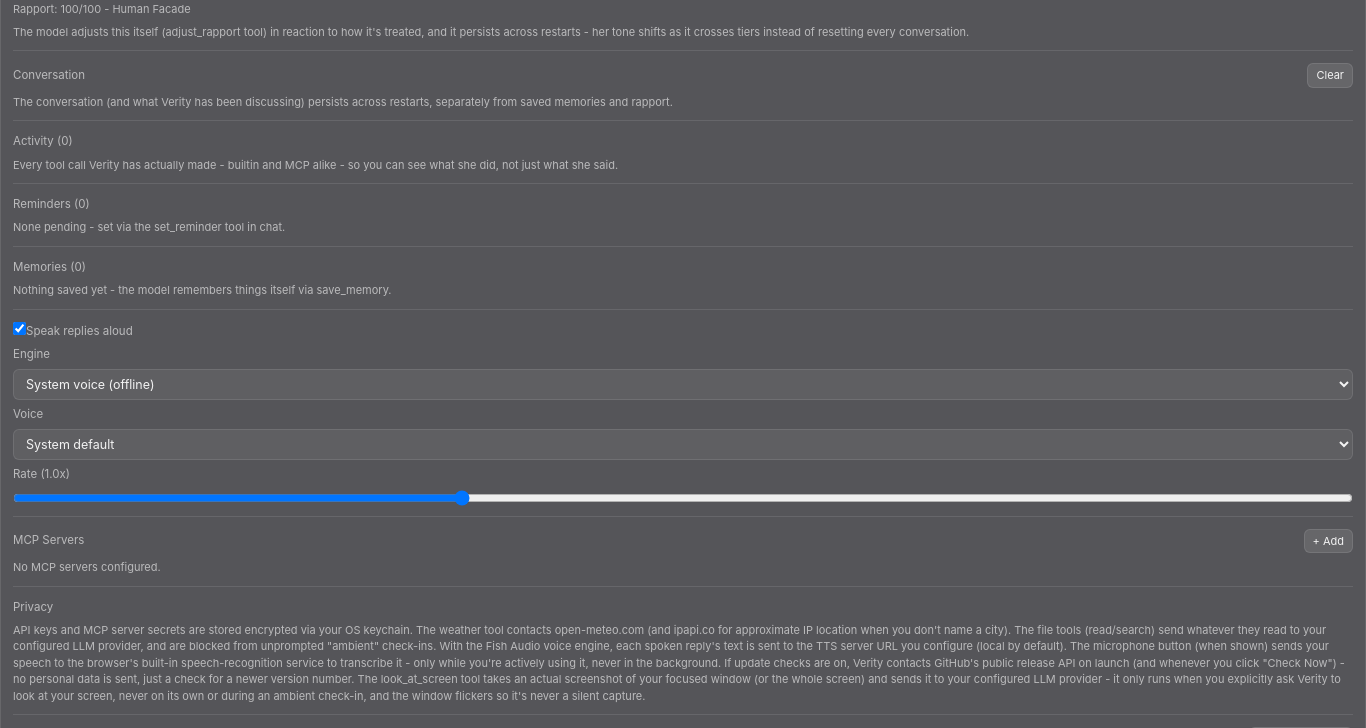
Test: SettingsPanel › text-to-speech › swaps the system voice select for the Fish Audio fields when the engine changes
(page scrolled)
Check: the text "Voice" is shown, box [13,407,43,421]
Check: the field with placeholder "http://localhost:8080" is not shown
Select "Fish Audio (natural)" in the 1st dropdown showing "System voice (offline)": {"x": 683, "y": 384} [13,369,1353,400]
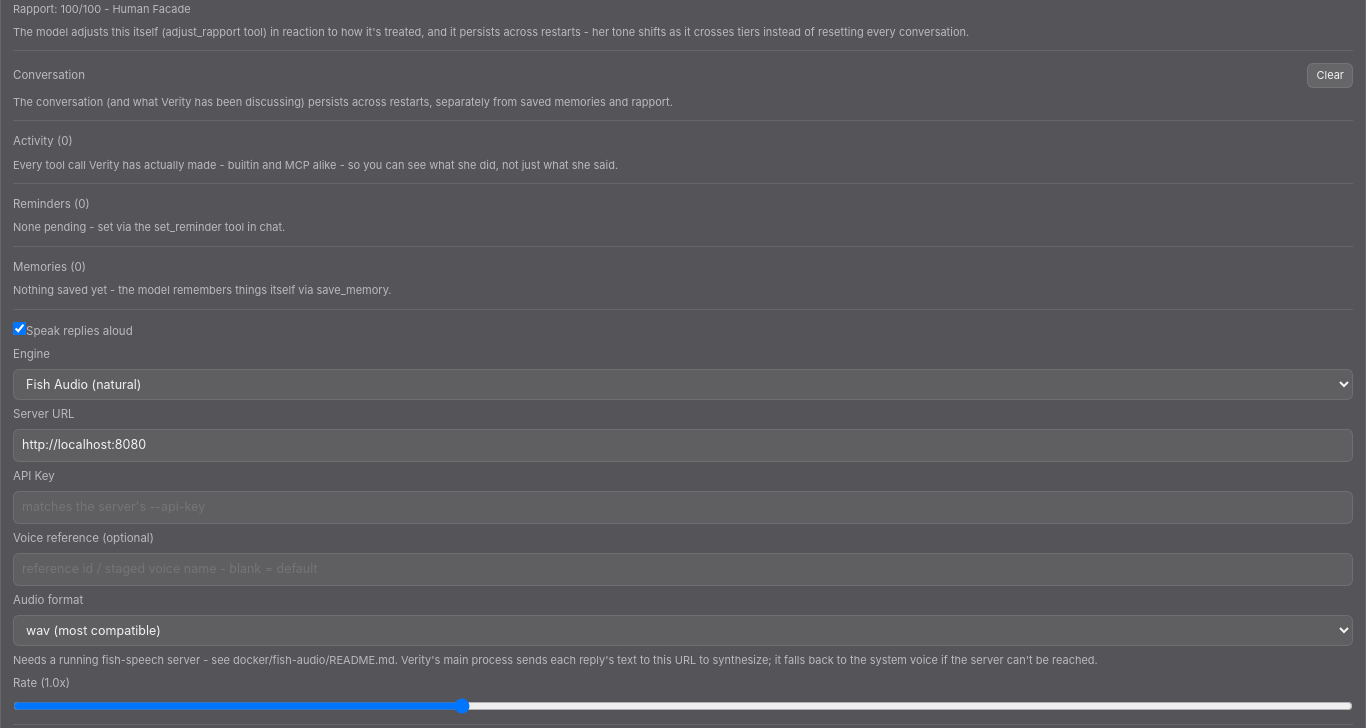
Check: the text "Rate (1.0x)" is shown, box [13,676,70,690]
Check: the field with placeholder "http://localhost:8080" is shown, box [13,429,1353,462]
Check: the password field with placeholder "matches the server's --api-key" is shown, box [13,491,1353,524]
